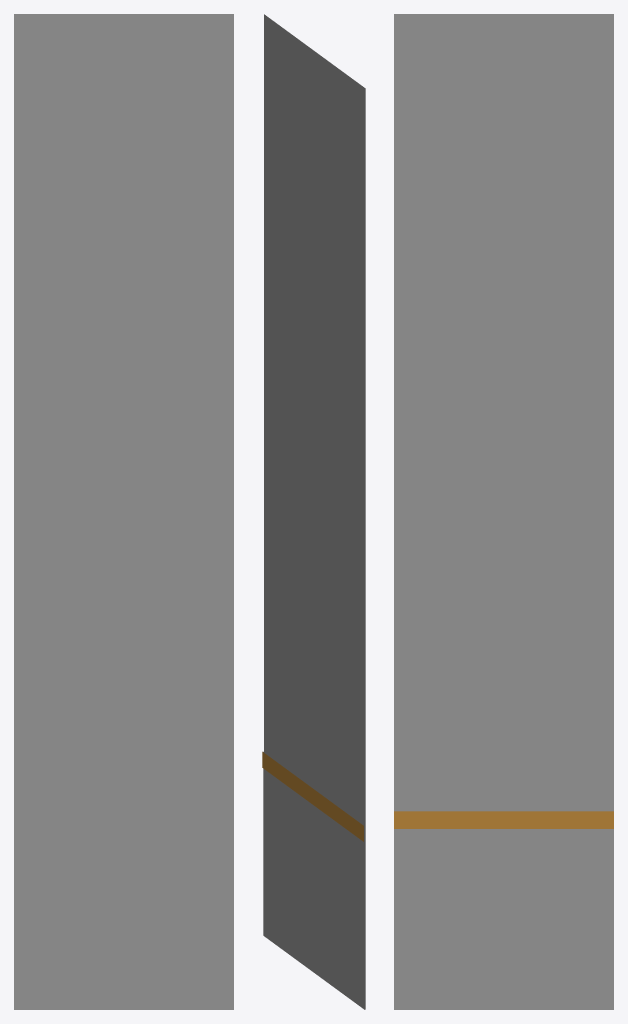
The model's file is SM_Modular_Wall_2x13.fbx.
3 renders of one model, left to right at view 1: azimuth 90°, elevation 25°; view 2: azimuth 210°, elevation 25°; view 3: azimuth 270°, elevation 25°, orthographic. The views are drawn at different scales.
Visible parts, largest first — view 1: Modular_Wall_2x13; view 2: Modular_Wall_2x13; view 3: Modular_Wall_2x13.
Boxes of the visible parts, <box> form: Modular_Wall_2x13: <box>14,14,233,1009</box>; Modular_Wall_2x13: <box>262,14,365,1009</box>; Modular_Wall_2x13: <box>394,14,613,1009</box>.
Size of the model in its own units: 1.71 by 1000 by 200.
